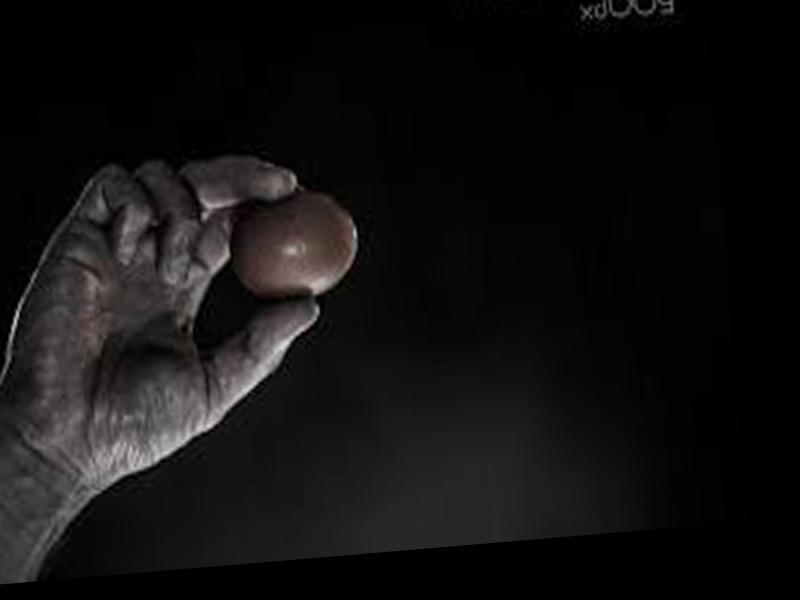Eggs: (221, 189, 361, 307)
